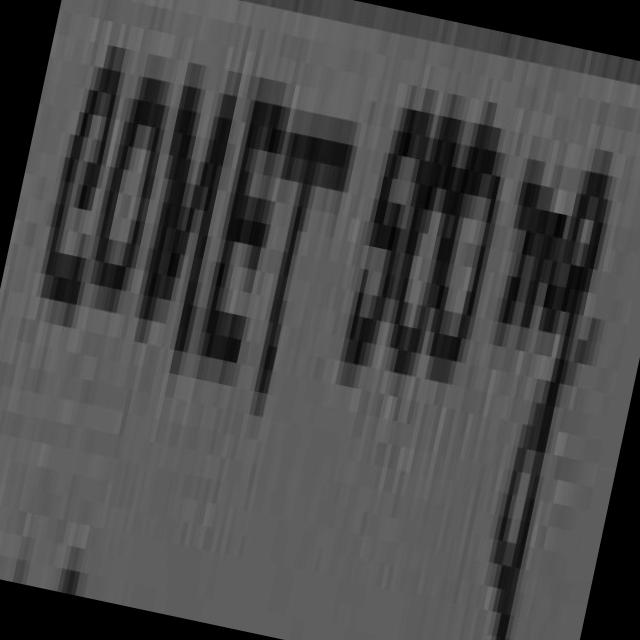0: (432, 125, 498, 381), (395, 117, 458, 372)
5: (351, 113, 435, 363)
C: (47, 68, 118, 298)
E: (207, 102, 284, 357)
M: (145, 95, 234, 341)
O: (96, 78, 162, 312)
T: (260, 144, 350, 416)
g: (498, 173, 610, 640)
m: (504, 179, 569, 331)
